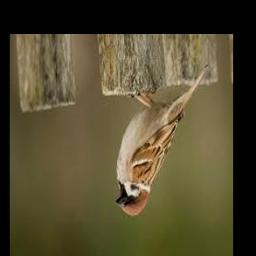Sparrow: (115, 64, 208, 217)
